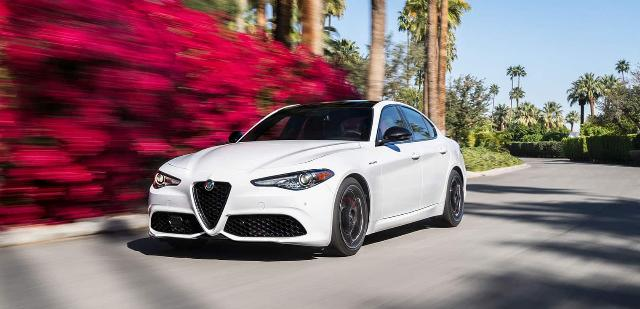alpha-romeo: (148, 100, 466, 258)
